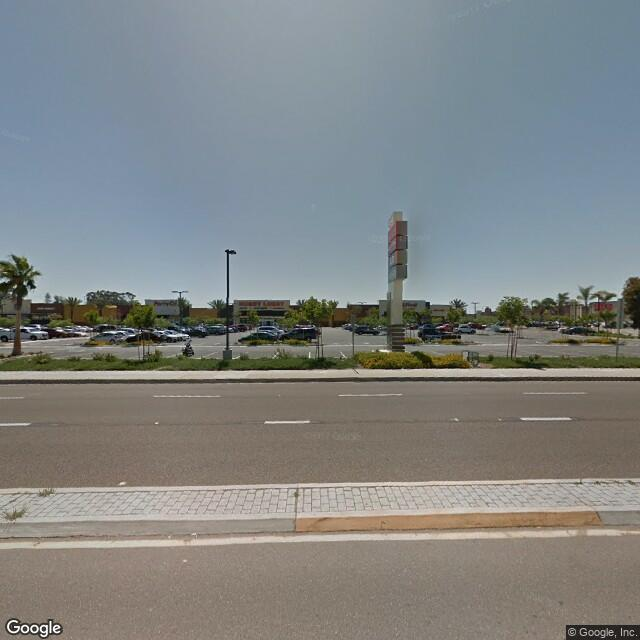litter: (190, 532, 200, 538)
